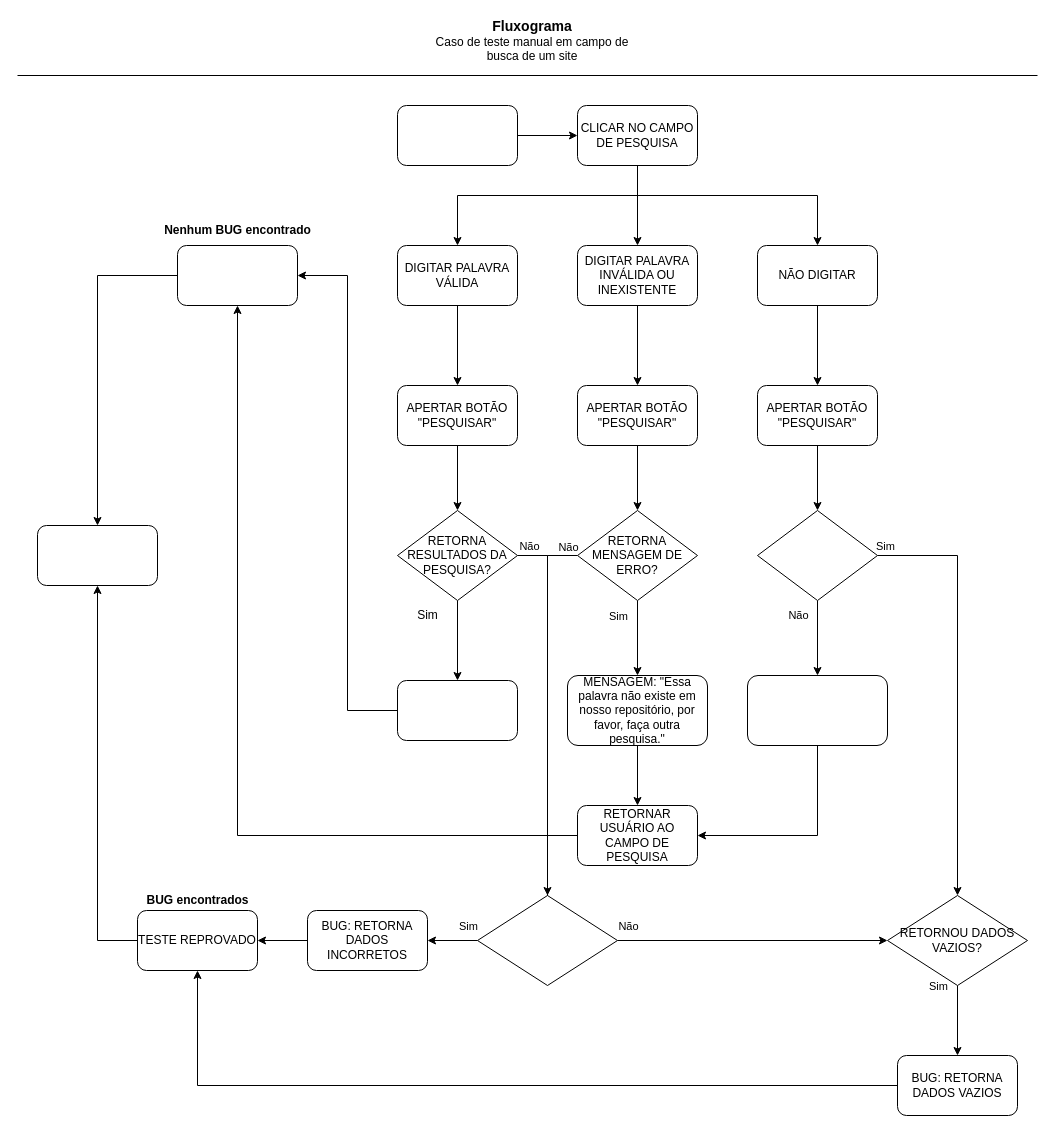
Some shapes in this 1056 by 1133 pixel diagram are drawn without their labels. Each missing label, with the centre of its shape:
FIM: [97,555]
INÍCIO: [457,135]
MENSAGEM: "Não há nada no campo de pesquisa, por favor, digite o que procura.": [817,710]
REALIZA PESQUISA?: [817,555]
RETORNAR DADOS DA PESQUISA AO USUÁRIO: [457,710]
RETORNOU DADOS INCORRETOS?: [547,940]
TESTE APROVADO: [237,275]
